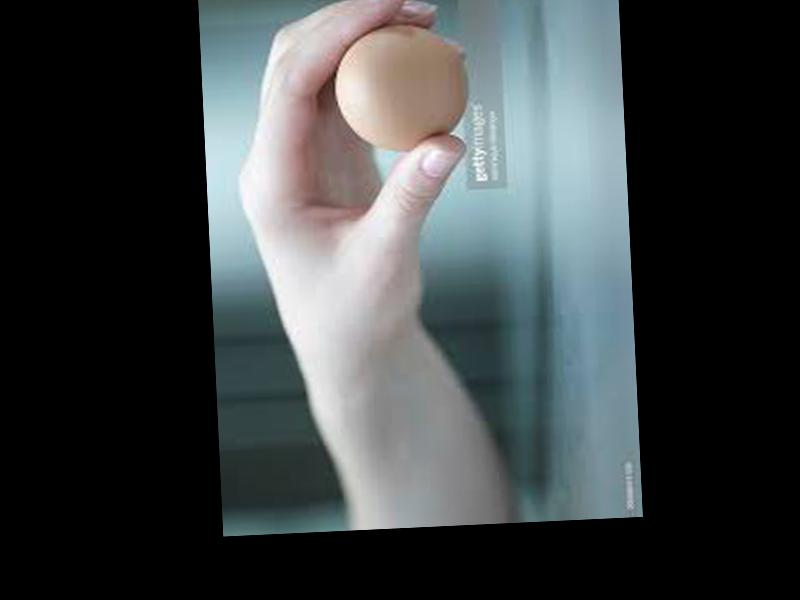Eggs: (330, 22, 473, 157)
